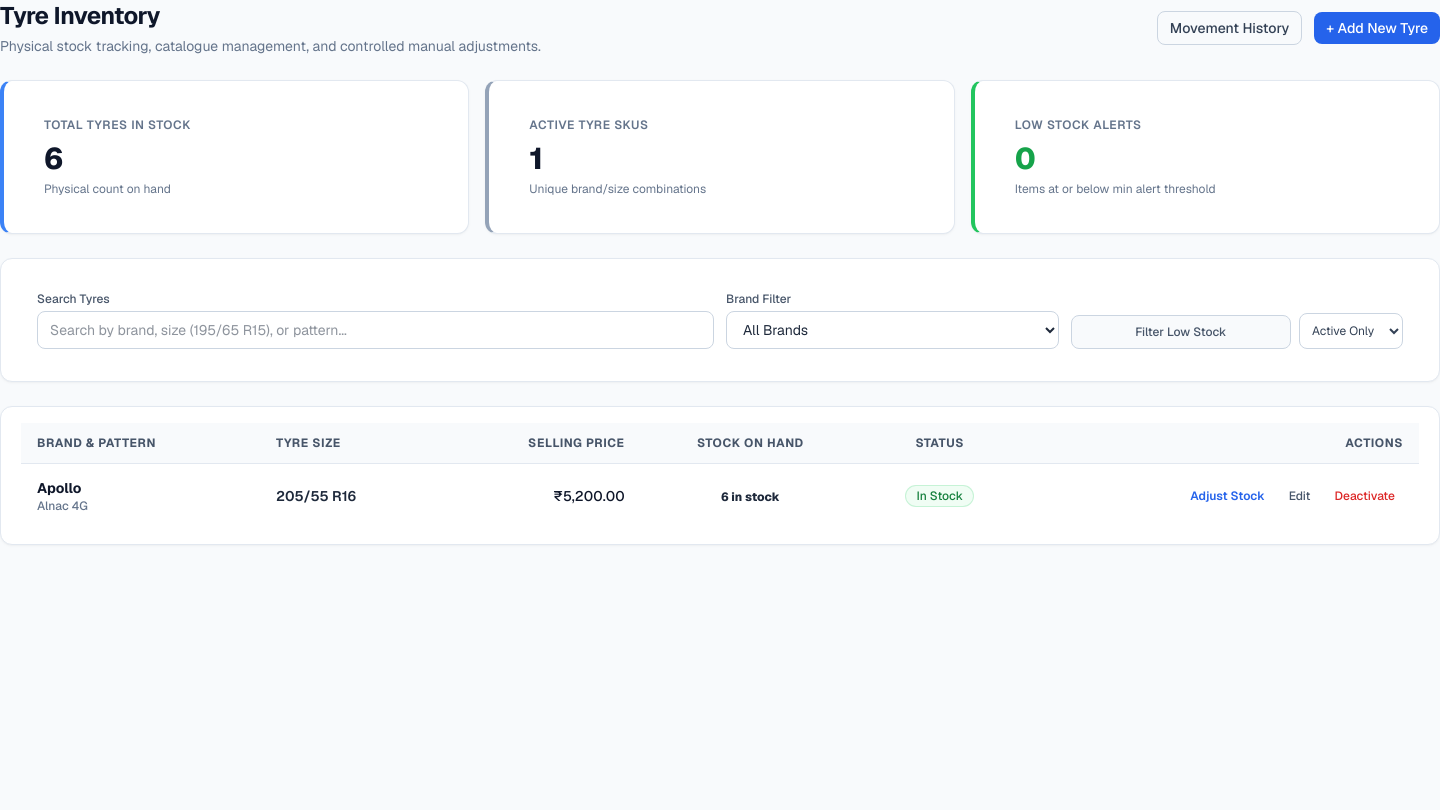
Test case: InventoryPage UI Component › opens stock adjustment modal on clicking Adjust Stock
Click the button "Adjust Stock": [1228, 496] box [1182,484,1273,508]
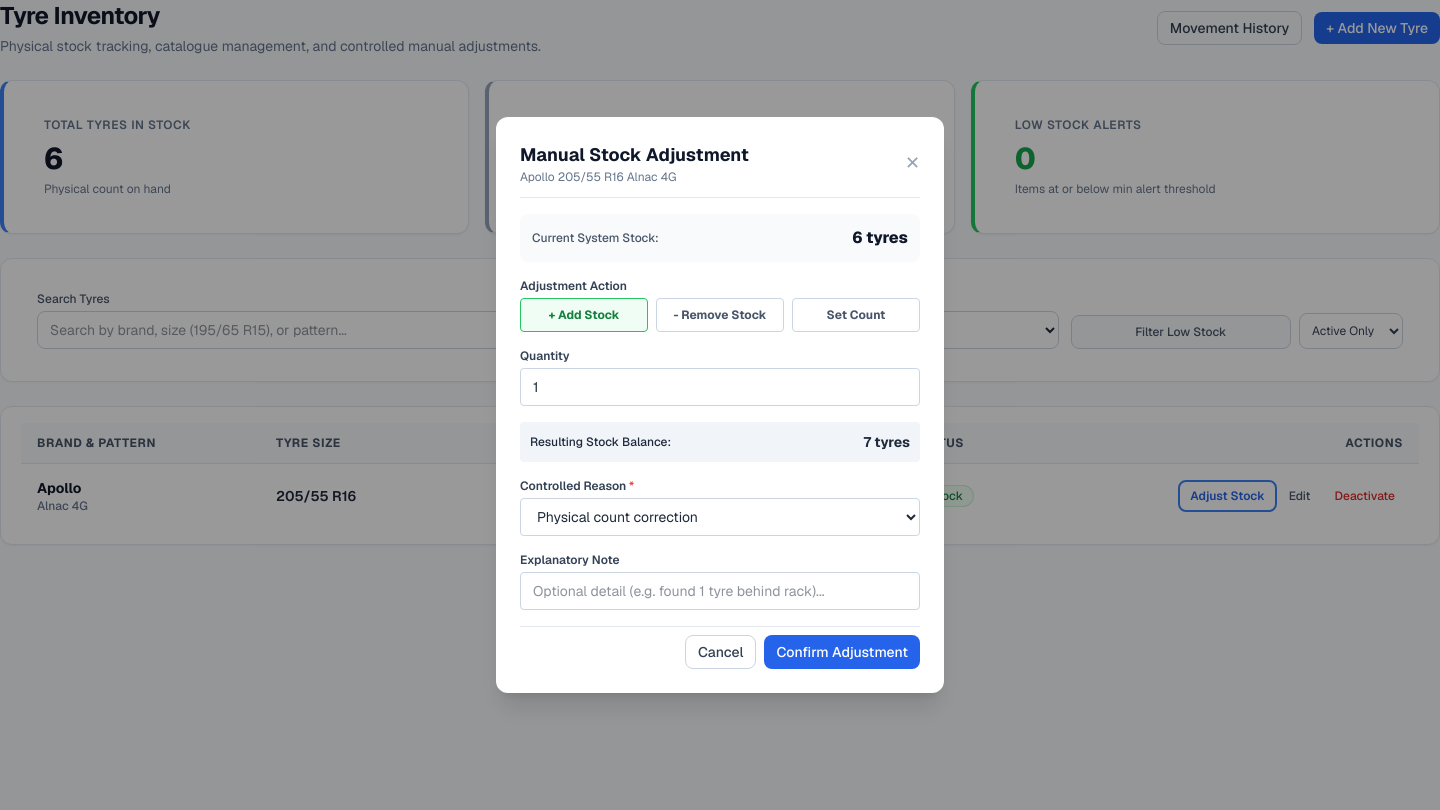
Result: the heading "Manual Stock Adjustment" is shown at [520,141,749,169]
Result: the text "Apollo 205/55 R16 Alnac 4G" is shown at [520,169,676,185]
Result: the text "6 tyres" is shown at [852,226,908,250]
